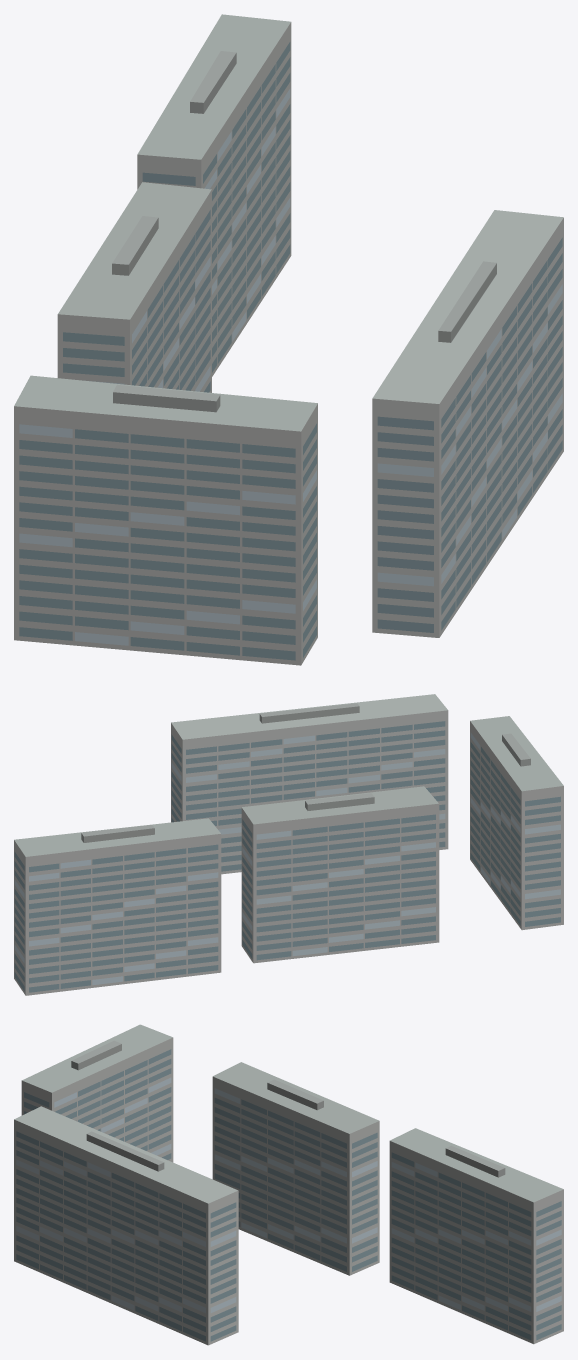
The model's file is apt-a15777501.glb.
The picture shows the model from 3 angles, top to bottom: view 1: azimuth 30°, elevation 25°; view 2: azimuth 150°, elevation 25°; view 3: azimuth 270°, elevation 25°; orthographic projection. The views are drawn at different scales.
Visible parts, largest first — view 1: apt-a15777501; view 2: apt-a15777501; view 3: apt-a15777501.
Boxes of the visible parts, x1,y1,x2,y2 form: apt-a15777501: (14,14,563,665); apt-a15777501: (14,694,563,995); apt-a15777501: (14,1024,563,1345).
Size of the model in its own units: 106 by 41 by 138.
